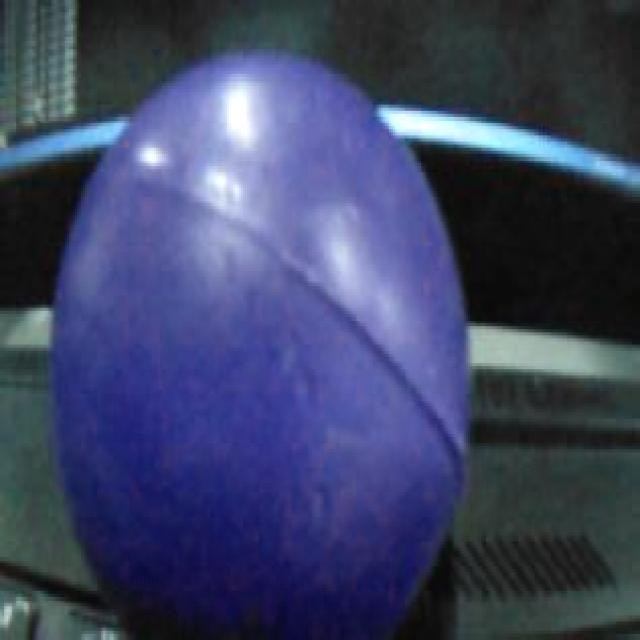BallPurple: (46, 46, 470, 640)
